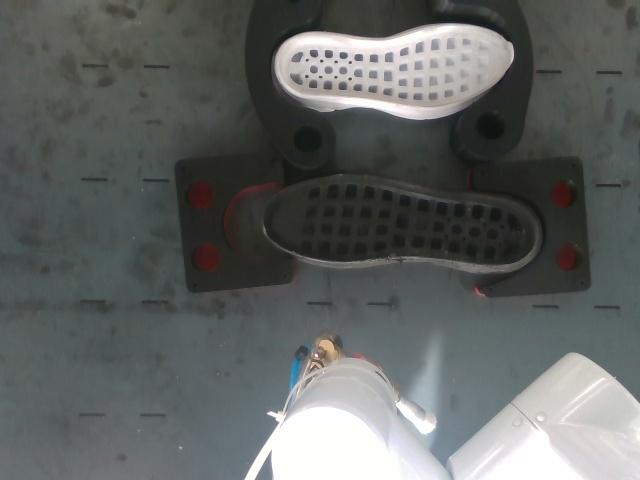shoes: (262, 175, 538, 266), (279, 25, 513, 107)
